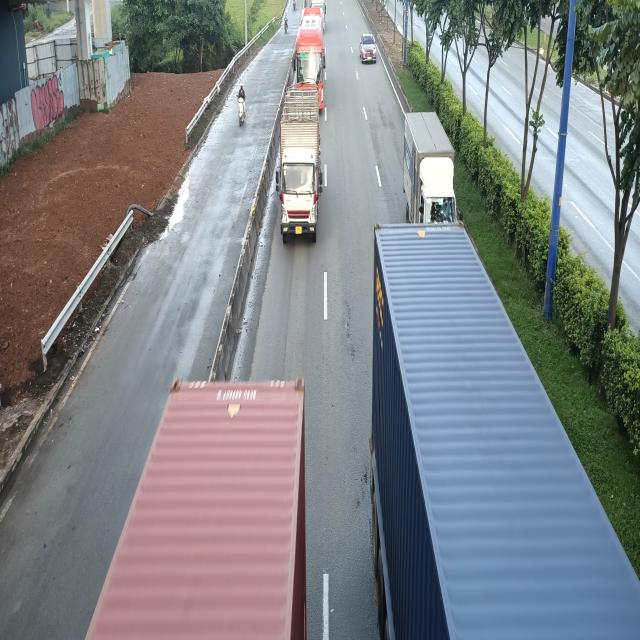car: (359, 32, 376, 64)
coach: (294, 4, 326, 106)
container: (365, 223, 636, 640), (64, 381, 317, 640)
truck: (273, 94, 324, 250), (402, 113, 460, 234)
